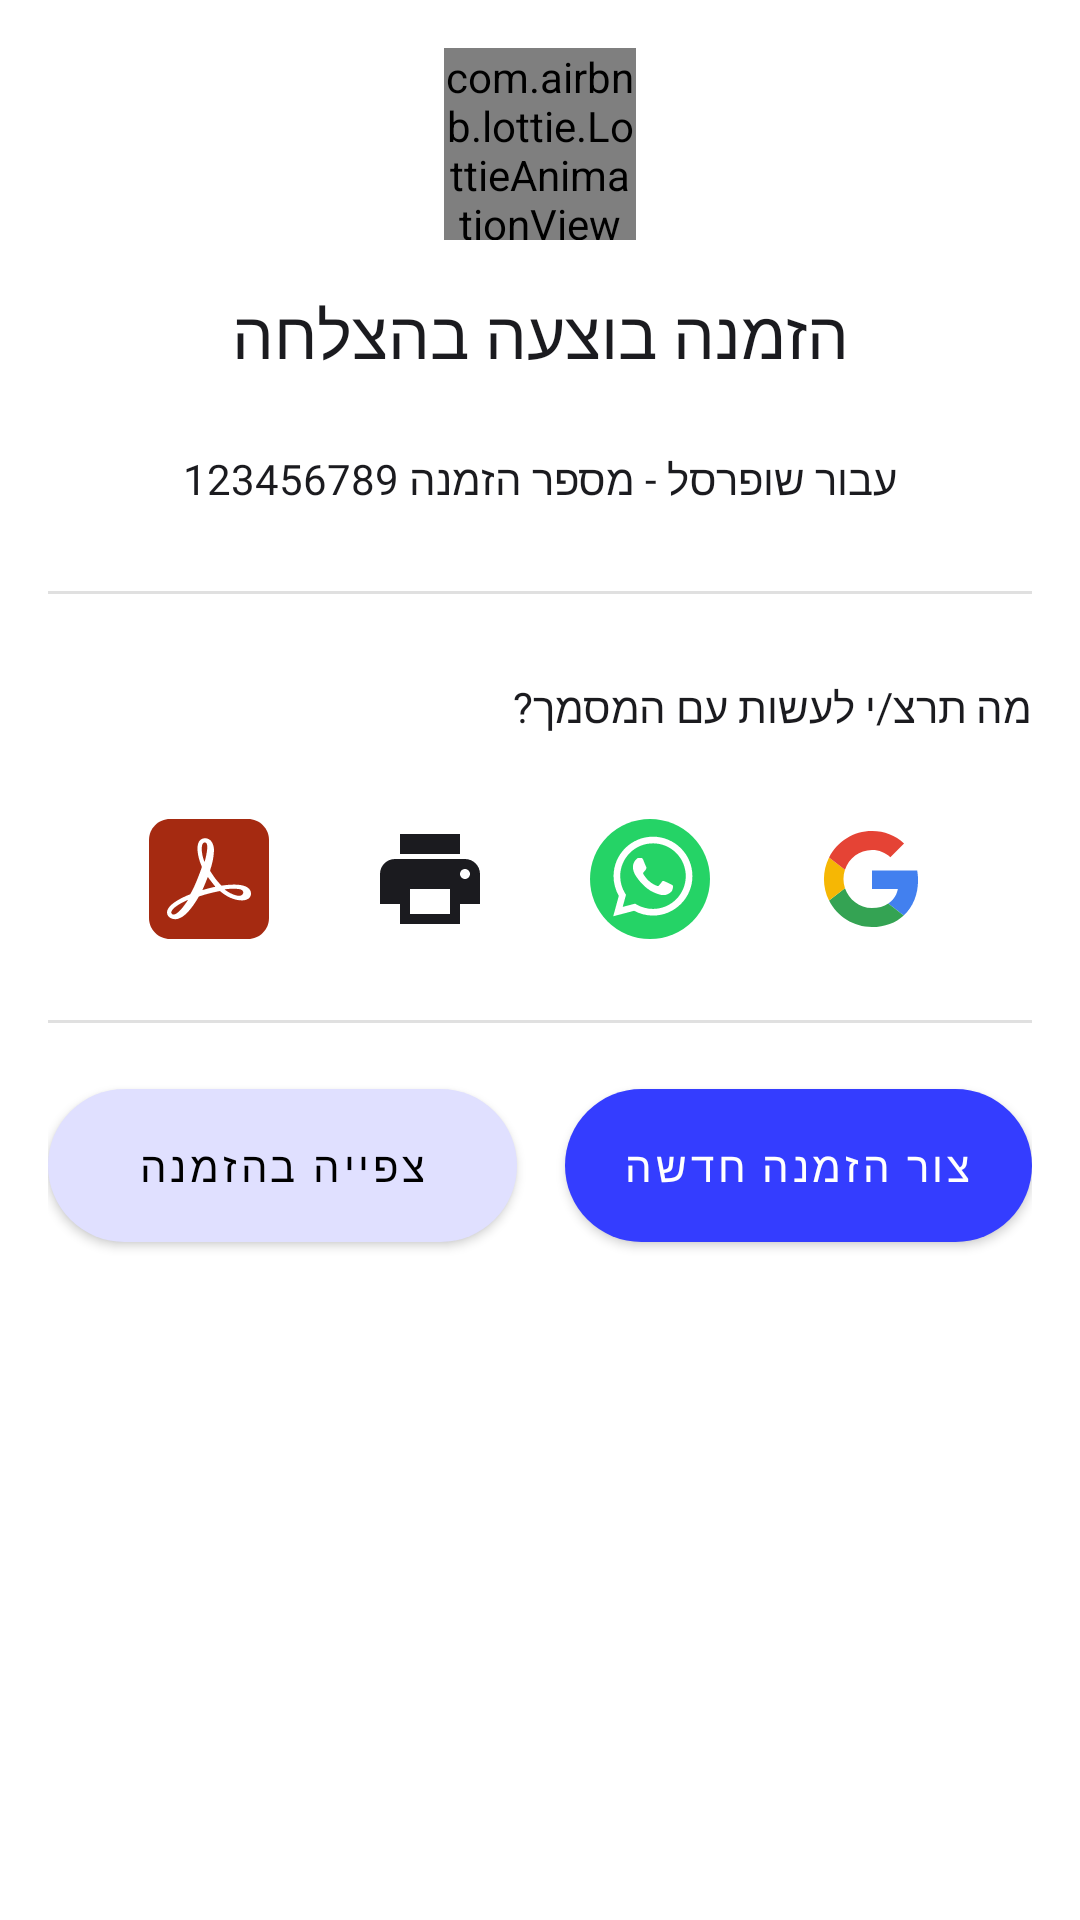

Named icons in this screenshot (1080px×1920px) and their bounding boxes, (x1, y1, x2, y2):
printer: (380, 834, 480, 924)
